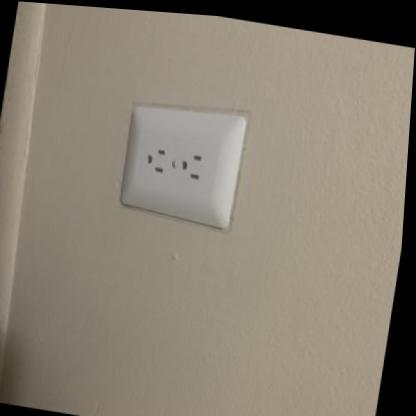OUTLET: (116, 101, 246, 229)
